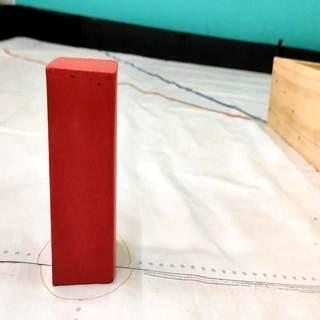redbox: (45, 55, 119, 286)
